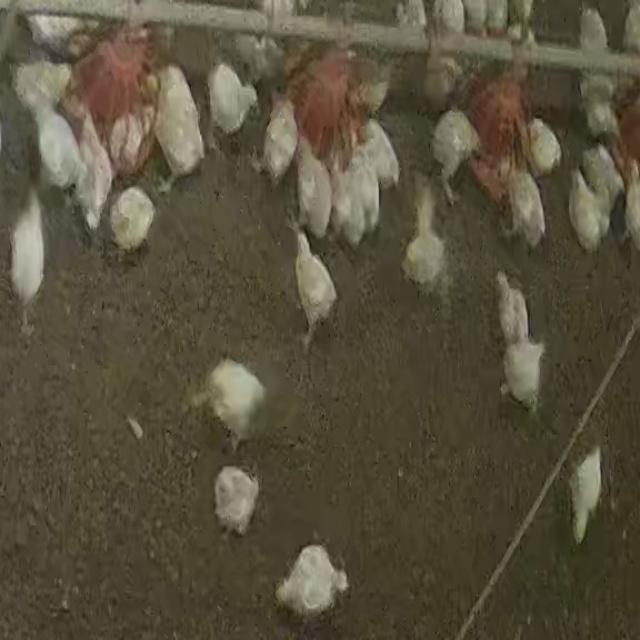chicken: (276, 542, 352, 627), (397, 202, 452, 315), (73, 107, 116, 235), (28, 105, 86, 194), (292, 232, 335, 351), (497, 152, 550, 246), (138, 105, 204, 179), (209, 363, 266, 444), (9, 199, 47, 318), (208, 62, 259, 144), (497, 339, 547, 419), (428, 109, 475, 188), (212, 465, 262, 538), (297, 137, 332, 239), (488, 266, 533, 345), (262, 91, 300, 183), (329, 149, 365, 245), (567, 170, 610, 250), (9, 60, 75, 112), (142, 64, 201, 121), (570, 445, 601, 539), (110, 190, 156, 253), (361, 116, 402, 186), (522, 110, 562, 177), (584, 68, 622, 135), (108, 112, 148, 169), (357, 141, 384, 223), (350, 64, 396, 110), (424, 57, 465, 105), (585, 143, 621, 197)
